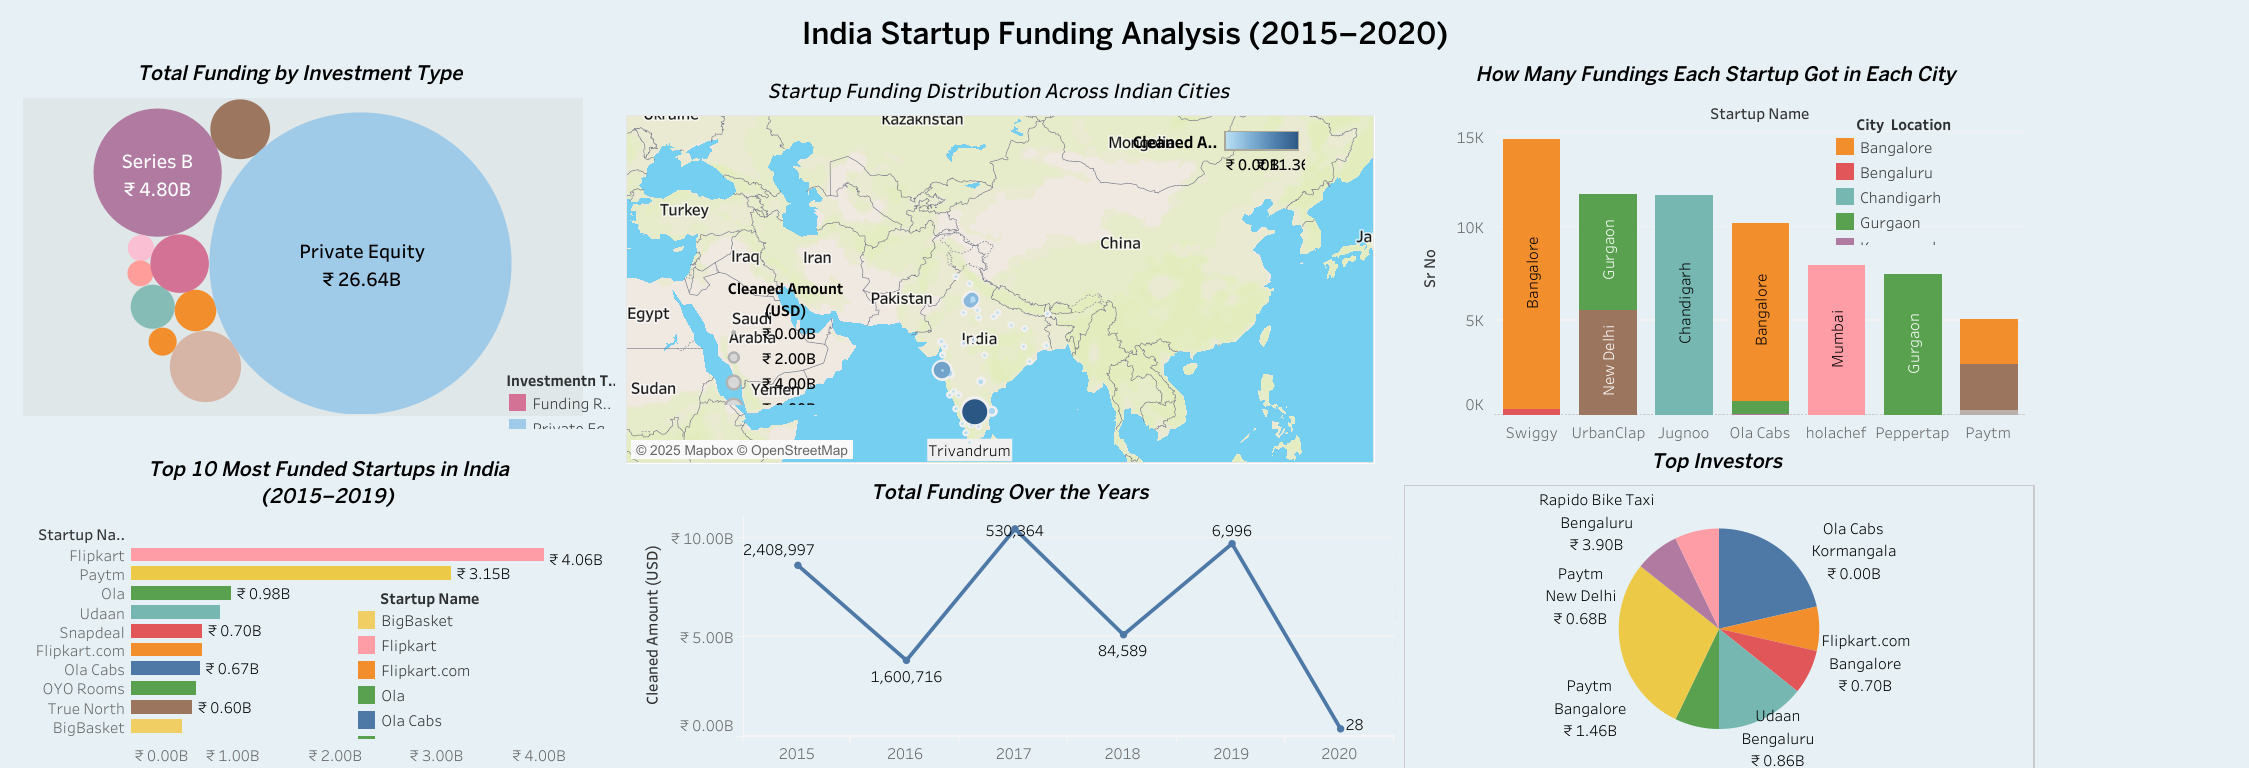

The dashboard page shown, as its layout file describes it:
{"tool":"tableau","page":{"name":"Dashboard 1","canvas":[1000,1000],"units":"permille","ordinal":0},"visuals":[{"type":"title","box":[4.4,10.7,991.1,59.1]},{"type":"worksheet","title":"Sheet 3","mark":"Circle","box":[10,68.5,248.3,469.8]},{"type":"worksheet","title":"Sheet 9","mark":"Automatic","rows":["Sr No"],"cols":["Startup Name"],"box":[626.1,70.1,274.4,505.7]},{"type":"worksheet","title":"Sheet 4","mark":"Automatic","box":[278.3,88.6,332.8,514.1]},{"type":"legend","title":"Sheet 9","param":"[federated.0bi1k4z156o7uy164e6xr1t9wp3c].[none:City  Location:nk]","box":[814.4,143.6,62.2,175.8]},{"type":"legend","title":"Sheet 4","param":"[federated.0bi1k4z156o7uy164e6xr1t9wp3c].[sum:Cleaned Amount (USD):qk]","box":[502.2,163.8,77.8,68.5]},{"type":"legend","title":"Sheet 4","param":"[federated.0bi1k4z156o7uy164e6xr1t9wp3c].[sum:Cleaned Amount (USD):qk]","box":[318.3,356.2,60.6,170]},{"type":"legend","title":"Sheet 3","param":"[federated.0bi1k4z156o7uy164e6xr1t9wp3c].[none:InvestmentnType:nk]","box":[224.4,476.5,48.9,81.9]},{"type":"worksheet","title":"Sheet 8","mark":"Line","rows":["Cleaned Amount (USD)"],"cols":["Date dd/mm/yyyy"],"box":[280.6,610.7,338.9,382.6]},{"type":"legend","title":"Sheet 2","param":"[federated.0bi1k4z156o7uy164e6xr1t9wp3c].[none:Startup Name:nk]","box":[157.2,759.2,66.7,201.3]}]}

Visuals, with their boxes on the dashboard's canvas, which has no fixed pixel size, in thousandths of its width and height (x1, y1, x2, y2). These are canvas units, not pixel positions in the 2249x768 screenshot, which may show the page scaled, cropped or inside an application window:
title: [left=4, top=11, right=996, bottom=70]
"Sheet 3" worksheet (Circle marks): [left=10, top=68, right=258, bottom=538]
"Sheet 9" worksheet: [left=626, top=70, right=900, bottom=576]
"Sheet 4" worksheet: [left=278, top=89, right=611, bottom=603]
"Sheet 9" legend: [left=814, top=144, right=877, bottom=319]
"Sheet 4" legend: [left=502, top=164, right=580, bottom=232]
"Sheet 4" legend: [left=318, top=356, right=379, bottom=526]
"Sheet 3" legend: [left=224, top=476, right=273, bottom=558]
"Sheet 8" worksheet (Line marks): [left=281, top=611, right=620, bottom=993]
"Sheet 2" legend: [left=157, top=759, right=224, bottom=960]
